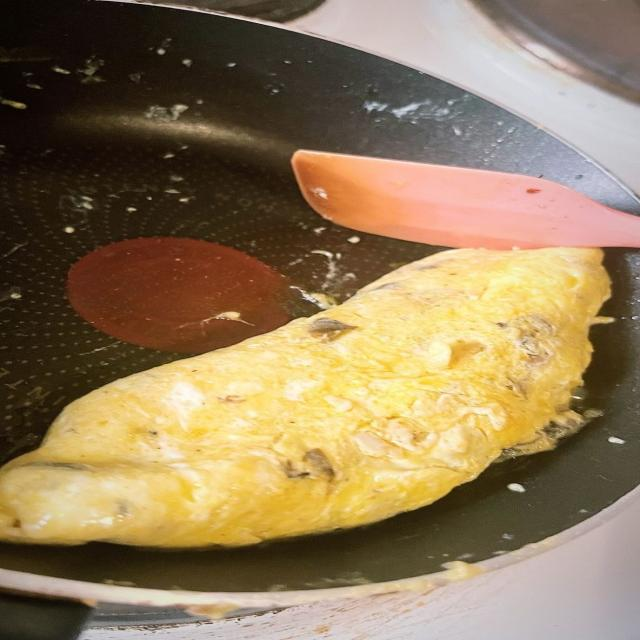omelette: (0, 249, 609, 547)
